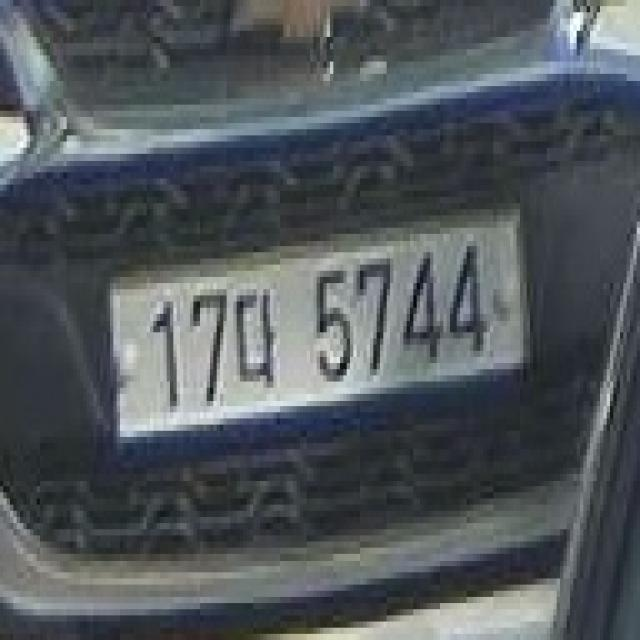1: (150, 289, 187, 431)
4: (396, 240, 446, 369), (450, 234, 493, 369)
5: (314, 246, 354, 388)
7: (190, 271, 233, 418), (353, 246, 397, 382)
da: (234, 277, 284, 406)
license_plate: (97, 191, 543, 474)
